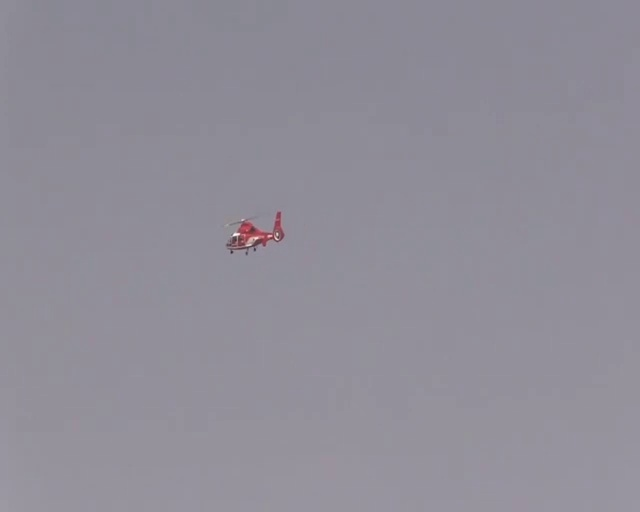HELICOPTER: (224, 210, 284, 256)
